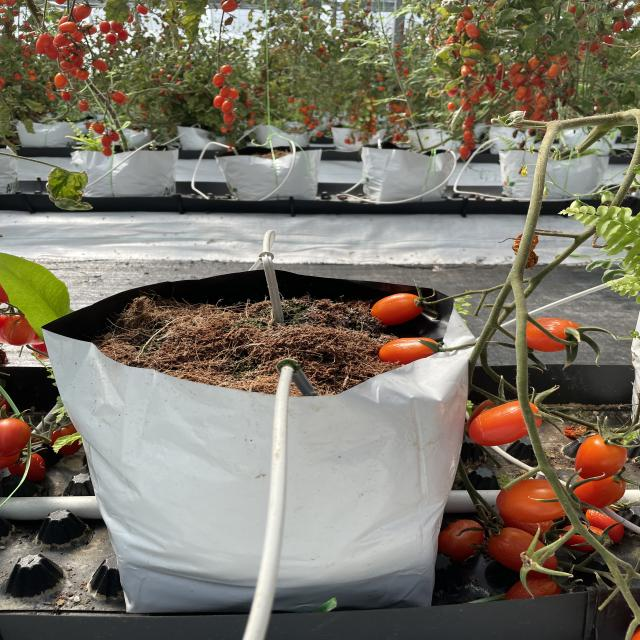Soilbag: (40, 271, 481, 621)
